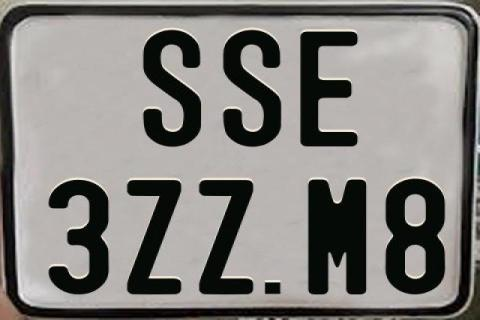0: (46, 177, 110, 293), (384, 177, 448, 293)
E: (300, 31, 362, 149)
M: (305, 178, 363, 298)
S: (222, 27, 285, 149), (140, 29, 198, 151)
Z: (198, 179, 254, 299), (125, 180, 179, 296)
